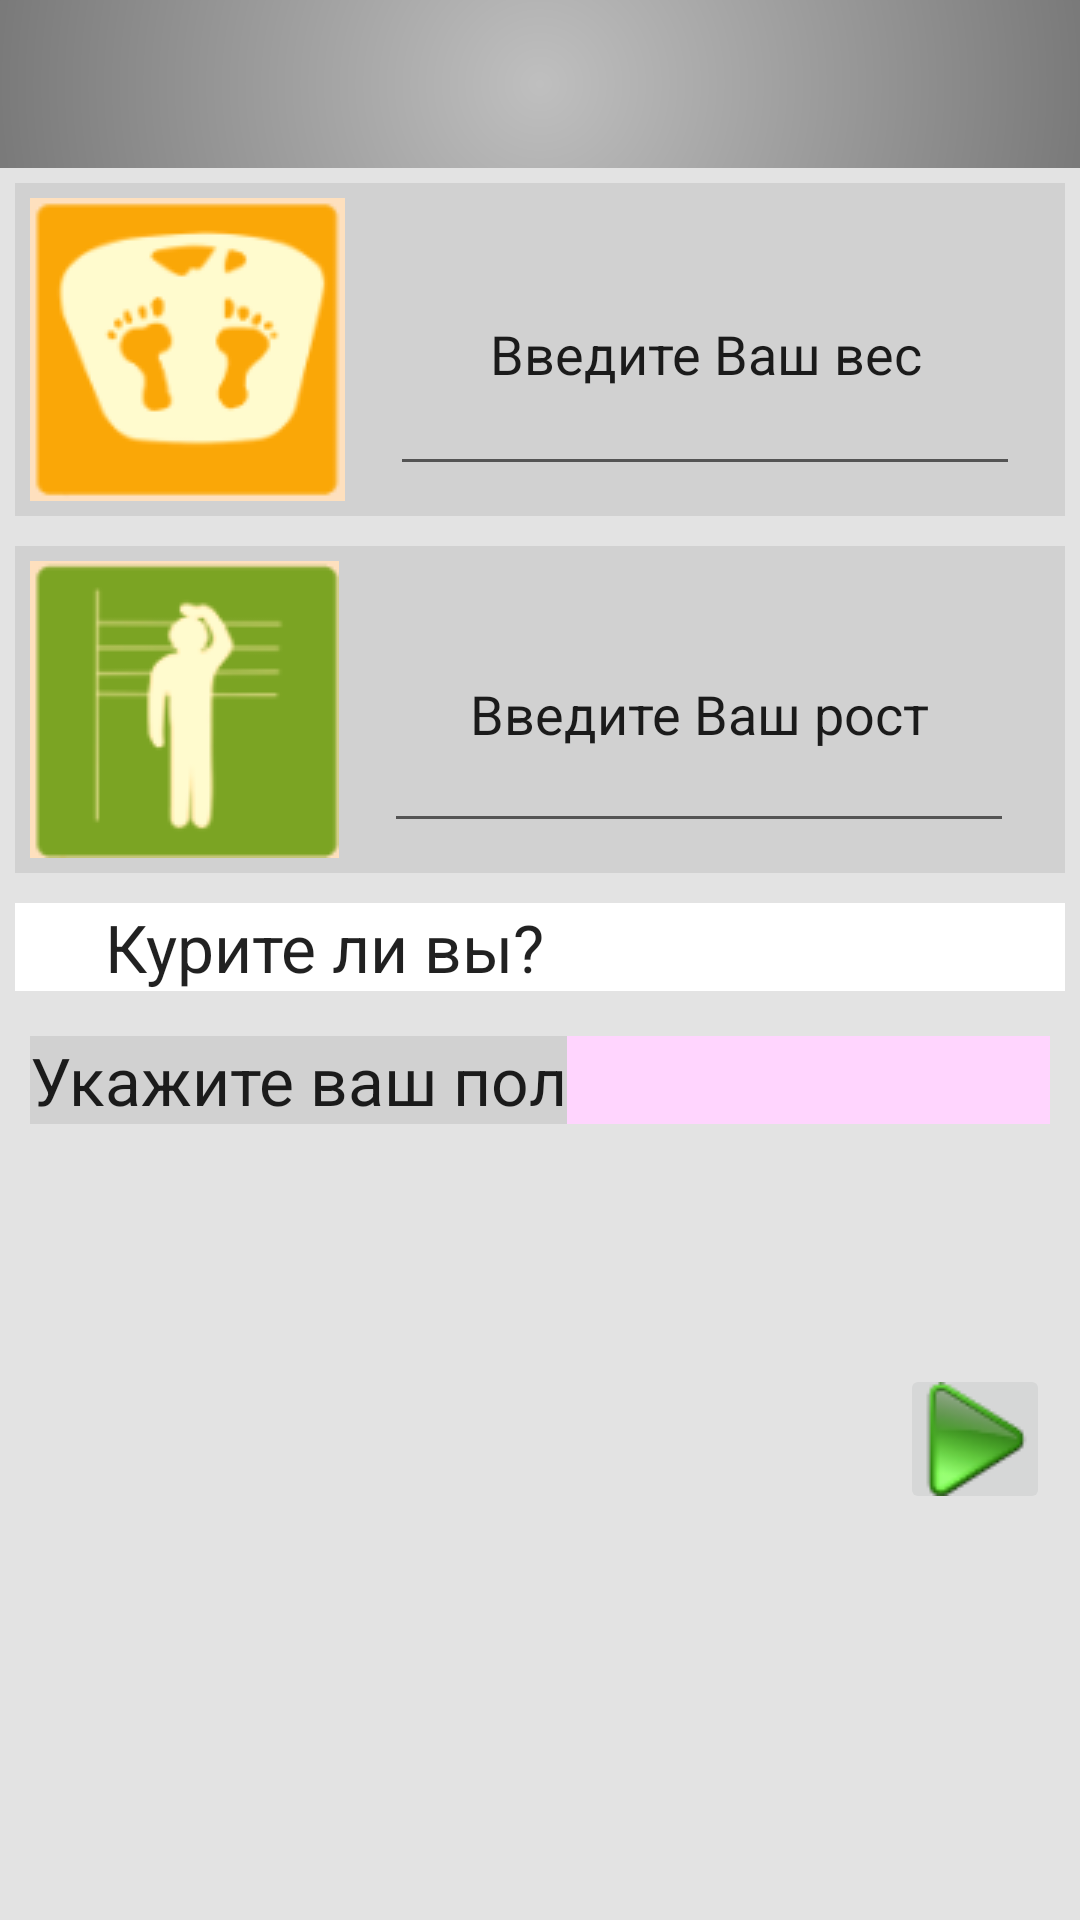

Icons on this 1080x1920 Android screen, each with its box as (x1, y1, x2, y2):
next: (926, 1382, 1026, 1496)
rost: (30, 561, 339, 858)
ves: (30, 198, 345, 501)
